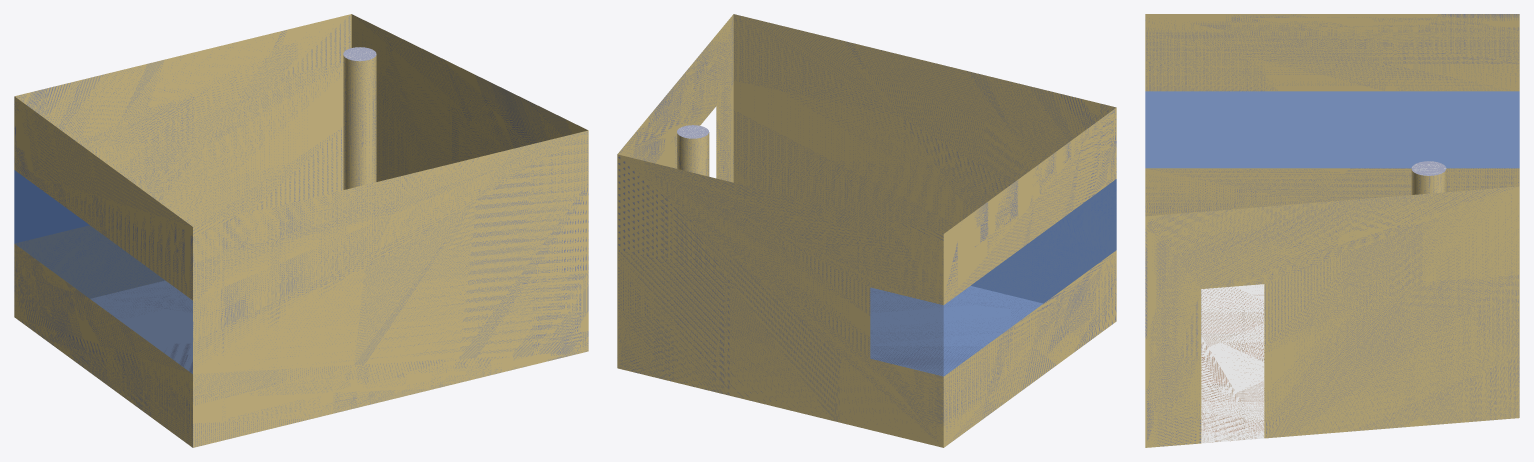
File: CUA016.obj
The picture shows the model from 3 angles, left to right: view 1: azimuth 30°, elevation 25°; view 2: azimuth 150°, elevation 25°; view 3: azimuth 270°, elevation 25°; orthographic projection. The views are drawn at different scales.
Parts seen in each view (by area): view 1: Mesh4 CUA016 Model, Mesh1 Group1 CUA016 Model; view 2: Mesh4 CUA016 Model, Mesh1 Group1 CUA016 Model; view 3: Mesh4 CUA016 Model, Mesh1 Group1 CUA016 Model.
Boxes of the visible parts, <box> form: Mesh4 CUA016 Model: <box>14,14,588,447</box>; Mesh1 Group1 CUA016 Model: <box>343,47,376,189</box>; Mesh4 CUA016 Model: <box>617,14,1116,447</box>; Mesh1 Group1 CUA016 Model: <box>677,125,709,176</box>; Mesh4 CUA016 Model: <box>1145,14,1519,447</box>; Mesh1 Group1 CUA016 Model: <box>1411,161,1446,194</box>.
Size of the model in its own units: 5.65 by 3.02 by 4.41.
Materials: 6 (2 with a texture image).
